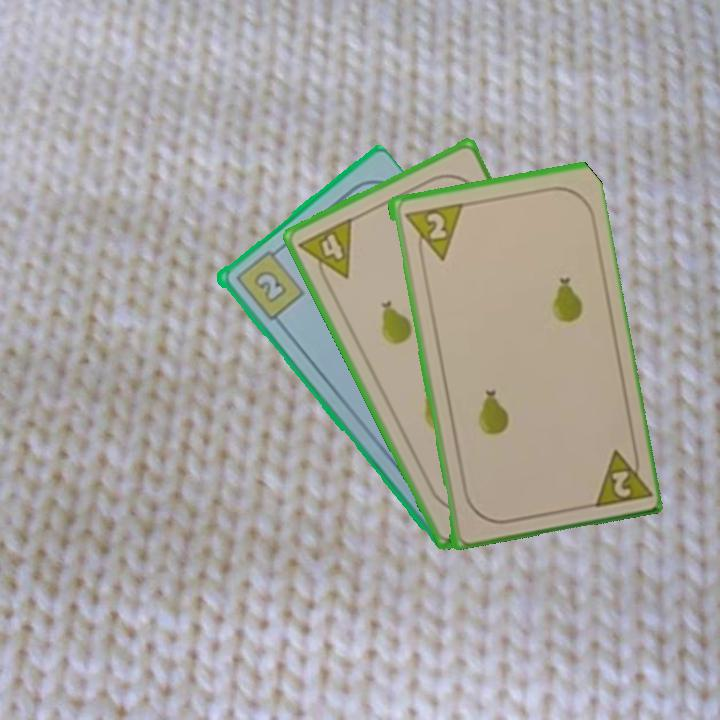2b: (231, 243, 307, 323)
2p: (586, 441, 651, 510), (422, 208, 449, 242)
4p: (295, 214, 355, 290)
